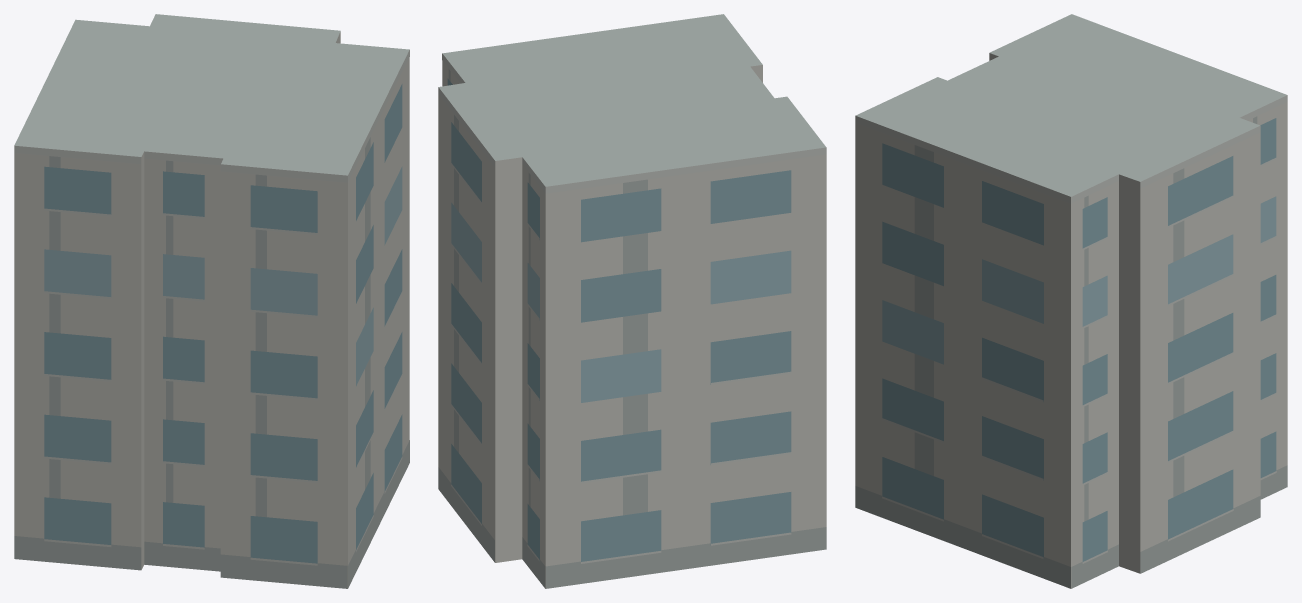
Rendered from survey-upis-32962441.glb.
The picture shows the model from 3 angles, left to right: view 1: azimuth 30°, elevation 25°; view 2: azimuth 150°, elevation 25°; view 3: azimuth 270°, elevation 25°; orthographic projection. The views are drawn at different scales.
Visible parts, largest first — view 1: survey-upis-32962441.tmp; view 2: survey-upis-32962441.tmp; view 3: survey-upis-32962441.tmp.
Boxes of the visible parts, x1,y1,x2,y2 form: survey-upis-32962441.tmp: [14, 14, 409, 588]; survey-upis-32962441.tmp: [438, 14, 826, 588]; survey-upis-32962441.tmp: [855, 14, 1287, 588].
Size of the model in its own units: 13.97 by 13.95 by 13.95.
